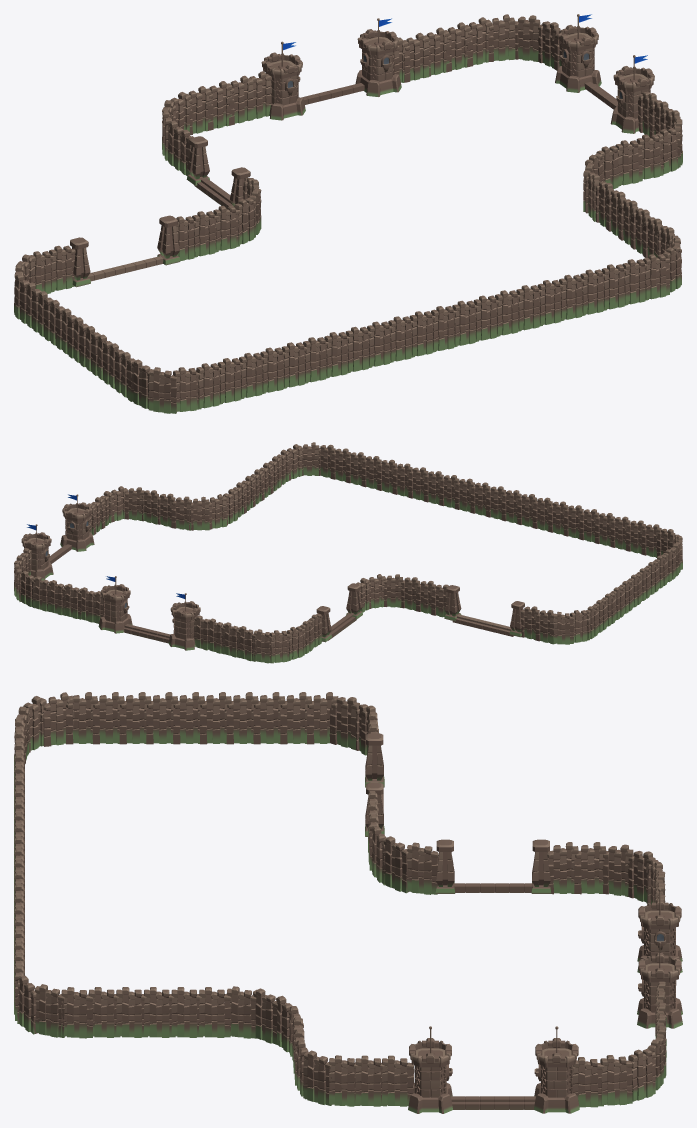
The model's file is Map Castle Borders.fbx.
3 views of the same model, one above another, from view 1: azimuth 30°, elevation 25°; view 2: azimuth 150°, elevation 25°; view 3: azimuth 270°, elevation 25° (orthographic). The views are drawn at different scales.
Parts seen in each view (by area): view 1: Plane.015, Plane.032, Plane.004, Plane.039, Cube.076, Cube.134, Cube.141, Cube.116, Cube.105, Cube.133, Cube.146, Cube.010 (+46 smaller); view 2: Plane.015, Plane.039, Plane.004, Plane.032, Cube.107, Cube.114, Cube.115, Cube.122, Cube.150, Cube.025, Cube.140, Cube.148 (+52 smaller); view 3: Plane.032, Plane.039, Plane.015, Plane.004, Cube.039, Cube.199, Cube.131, Cube.110, Cube.101, Cube.077, Cube.102, Cube.040 (+36 smaller).
Boxes of the visible parts, x1,y1,x2,y2 form: Plane.015: (355,18,401,96); Plane.032: (555,14,601,92); Plane.004: (261,41,305,120); Plane.039: (610,55,654,133); Cube.076: (148,367,176,413); Cube.134: (487,14,515,61); Cube.141: (404,32,429,82); Cube.116: (615,140,642,185); Cube.105: (643,254,670,299); Cube.133: (514,15,540,61); Cube.146: (229,75,253,125); Cube.010: (213,205,240,251); Plane.015: (98,576,132,633); Plane.039: (60,494,94,551); Plane.004: (168,593,200,650); Plane.032: (21,524,53,580); Cube.107: (553,611,573,644); Cube.114: (188,496,209,530); Cube.115: (171,496,191,530); Cube.122: (124,487,144,521); Cube.150: (270,630,290,662); Cube.025: (535,610,553,644); Cube.140: (63,584,81,619); Cube.148: (237,626,255,661); Plane.032: (534,1026,579,1113); Plane.039: (408,1026,452,1113); Plane.015: (637,941,682,1028); Plane.004: (637,888,682,972); Cube.039: (199,987,231,1037); Cube.199: (600,1055,632,1105); Cube.131: (381,1055,414,1106); Cube.110: (406,842,438,894); Cube.101: (61,987,93,1038); Cube.077: (574,842,606,894); Cube.102: (35,984,64,1037); Cube.040: (171,987,202,1037).
Size of the model in its own units: 15.47 by 1.51 by 11.68.
